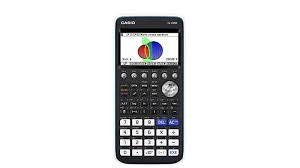Calculator: (108, 7, 192, 168)
